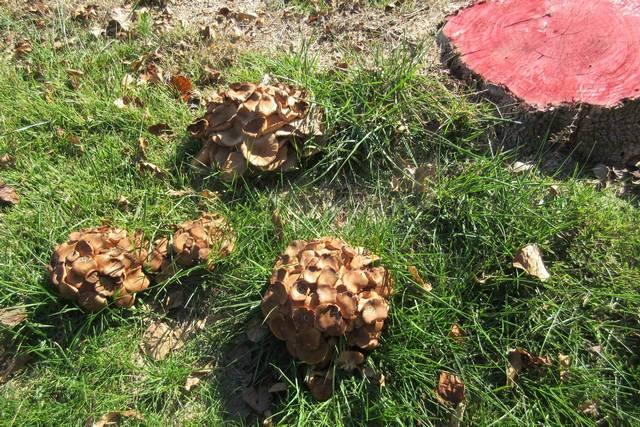Edible Mushroom: (259, 235, 393, 400), (186, 79, 325, 182), (50, 228, 147, 311), (148, 216, 232, 279)
